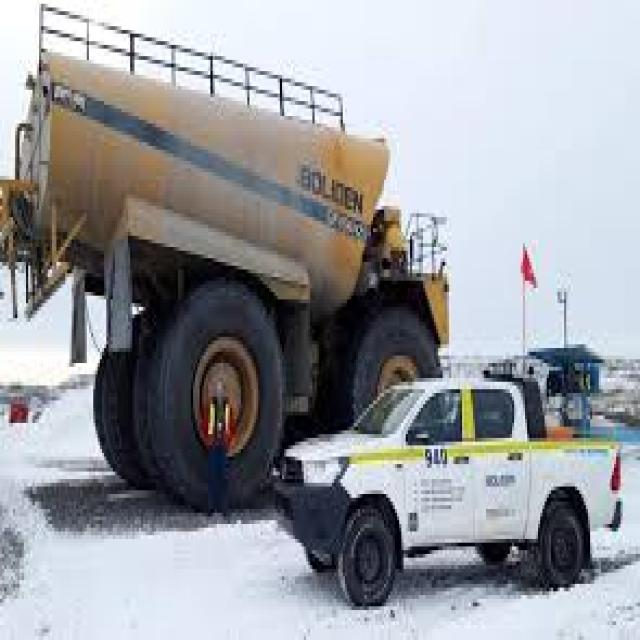light_vehicle: (264, 374, 624, 625)
